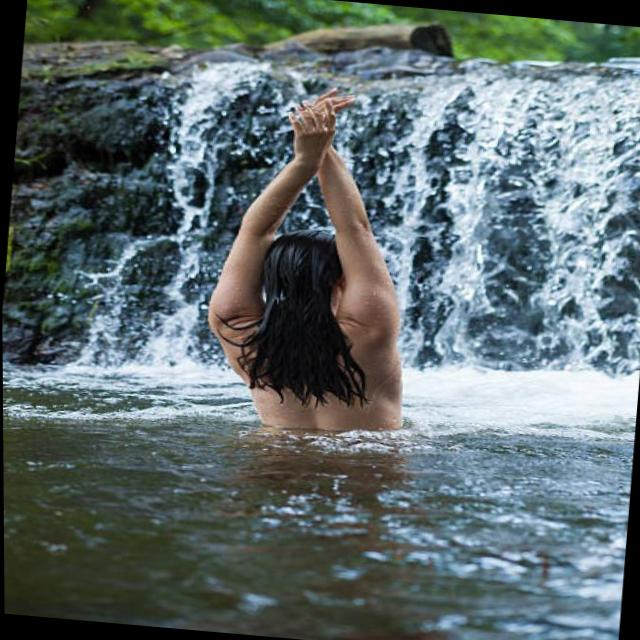no helmet: (231, 216, 386, 420)
